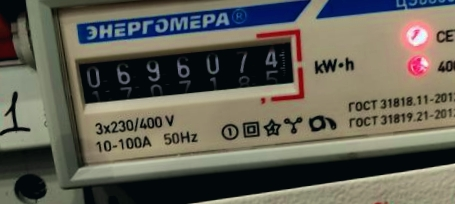0: (81, 63, 102, 88), (202, 49, 221, 76)
4: (260, 44, 278, 67)
5: (264, 69, 281, 85)
6: (174, 52, 193, 80), (113, 60, 132, 85)
7: (232, 47, 252, 74)
9: (143, 56, 161, 83)
screen: (63, 24, 309, 116)
